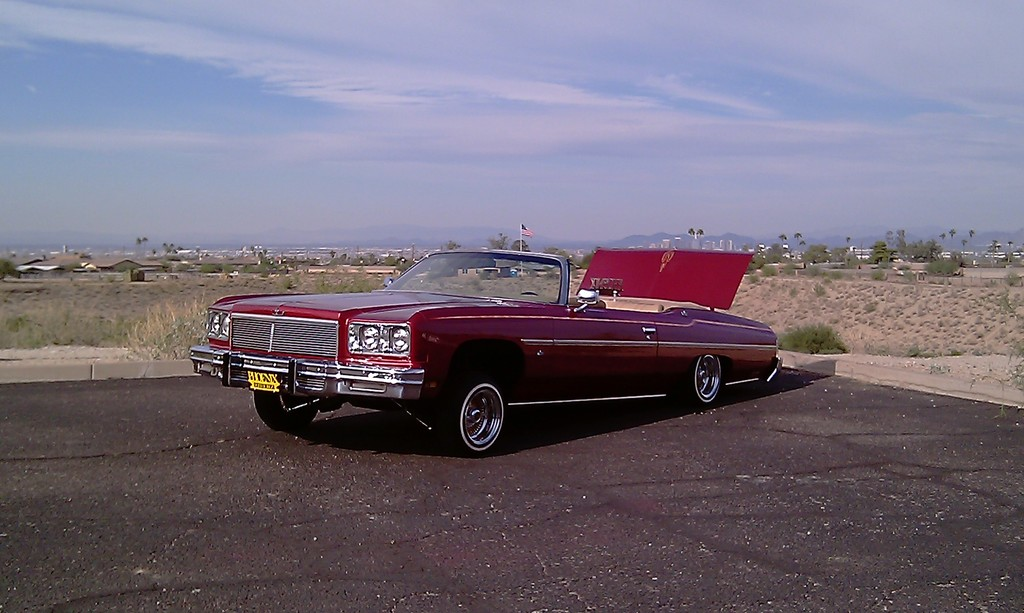Car: (190, 246, 782, 456)
